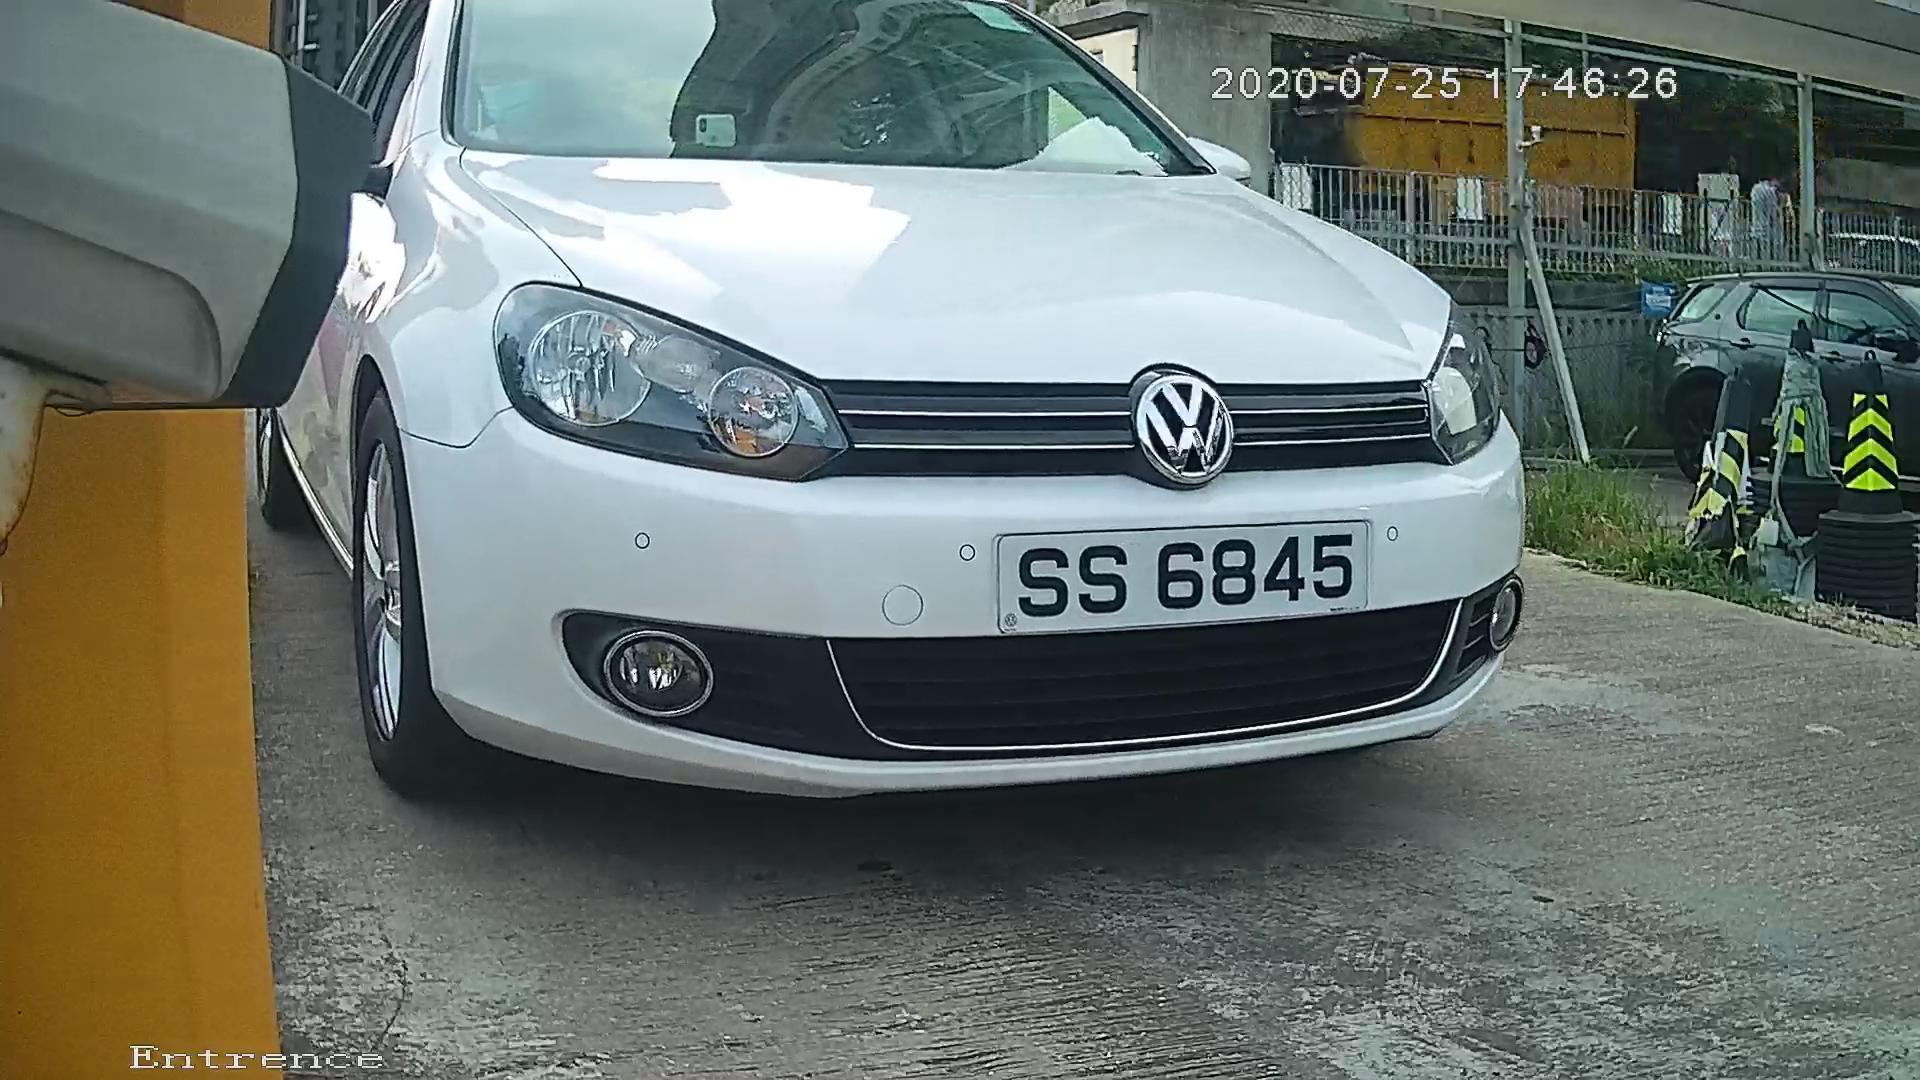privatecar: (276, 5, 1698, 820)
